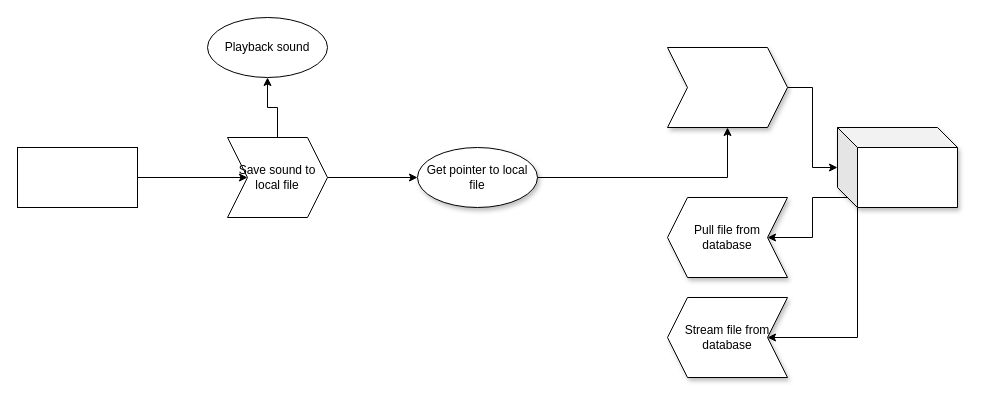
Some shapes in this 981 by 402 pixel diagram are drawn without their labels. Here are the shapes that lost their labels. From the top down, the centre of each, then its label:
At point (728, 88): "Push file to database".
At point (77, 177): "Record Sound".
At point (898, 168): "Database".
